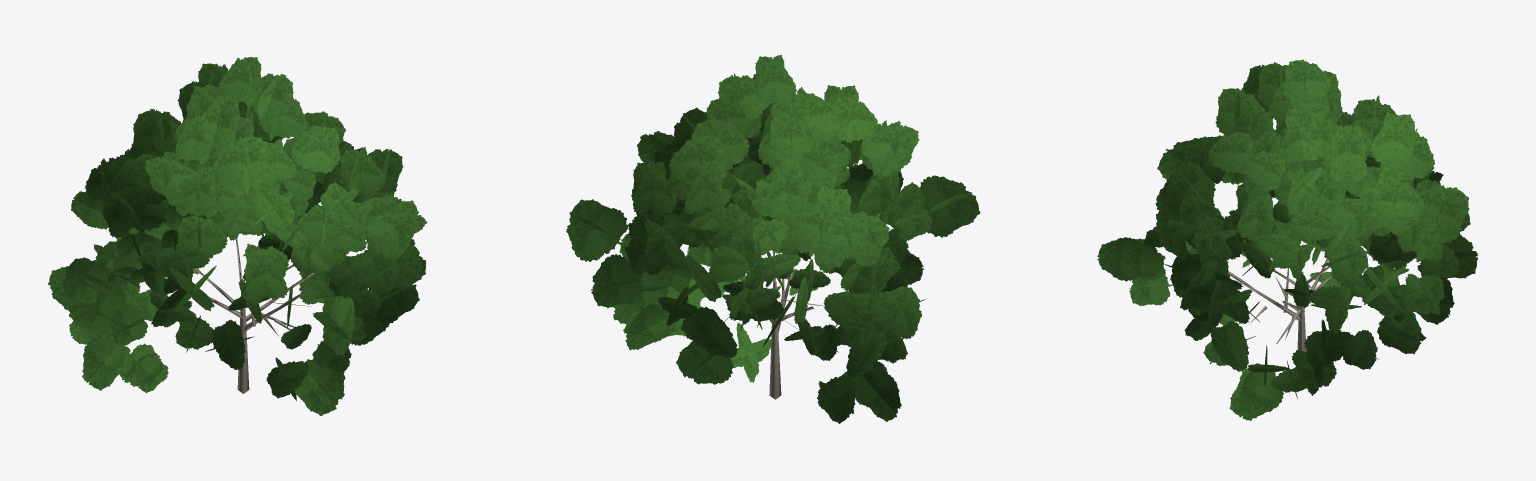
File: laurel-muybajo.glb
The picture shows the model from 3 angles, left to right: view 1: azimuth 30°, elevation 25°; view 2: azimuth 150°, elevation 25°; view 3: azimuth 270°, elevation 25°; orthographic projection. The views are drawn at different scales.
Parts seen in each view (by area): view 1: laurel; view 2: laurel; view 3: laurel.
Part boxes in pixels (x1,y1,x2,y2): laurel: (48,57,427,415); laurel: (566,54,980,423); laurel: (1097,59,1477,420).
Bounding box in the file's own units: 17.12 × 17.11 × 17.48.
2 materials, 1 textured.
